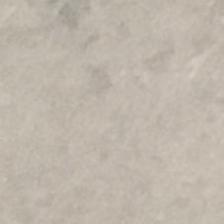Non_Crack: (28, 57, 224, 194)
